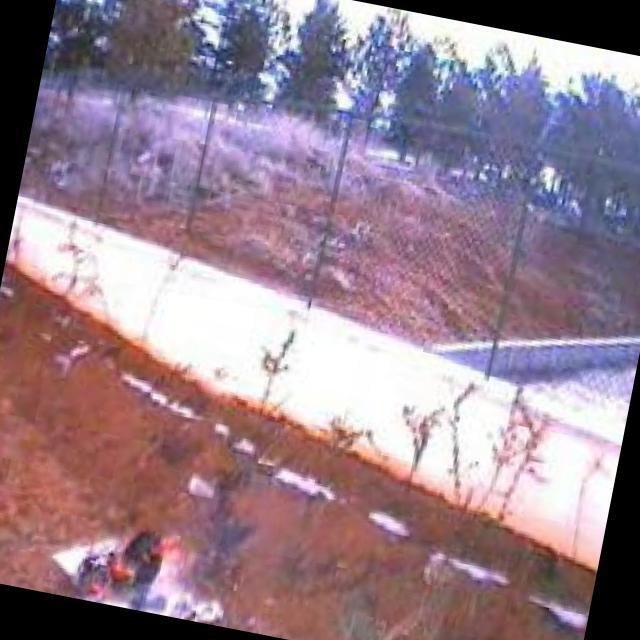Fire: (78, 510, 202, 621)
